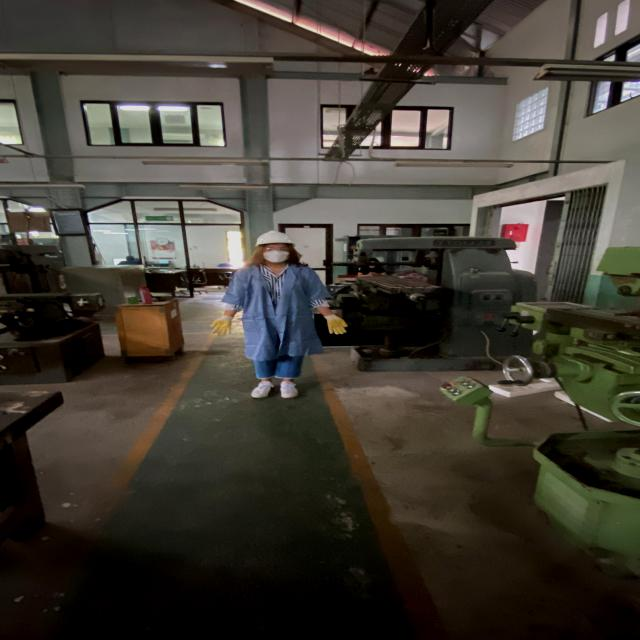face_mask: (259, 244, 293, 263)
glasses: (262, 244, 295, 251)
hand_glove: (210, 315, 238, 337), (325, 315, 351, 335)
head_helmet: (253, 229, 296, 246)
person: (212, 229, 352, 404)
shoes: (275, 377, 304, 401), (249, 378, 277, 401)
